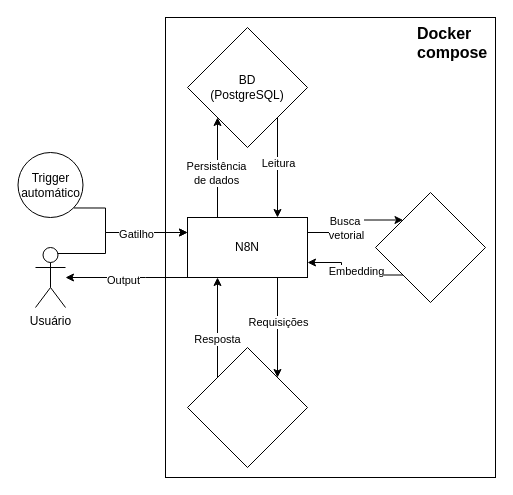
Image size: 513x495. Some labels were removed from this diagram. The centre of each missing label's shape, as x and y in pixels:
"Espaço vetorial (Qdrant)" goes at (x=430, y=247).
"Modelo local (Ollama)" goes at (x=247, y=407).
